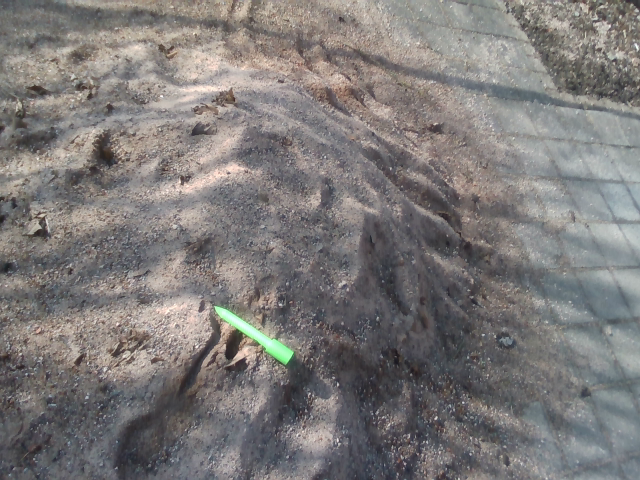Probe: (206, 296, 299, 373)
